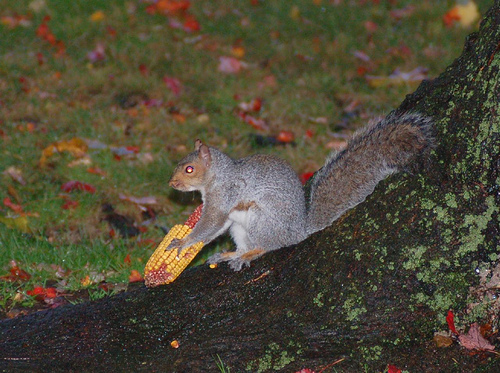corn: (140, 200, 215, 287)
